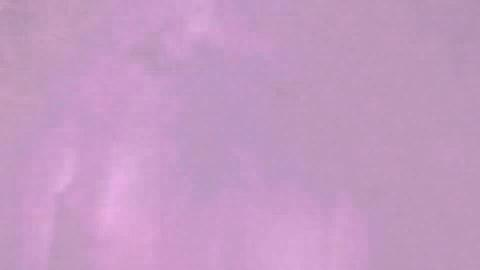tomato: (165, 113, 377, 268), (1, 127, 165, 268), (377, 117, 477, 268)
